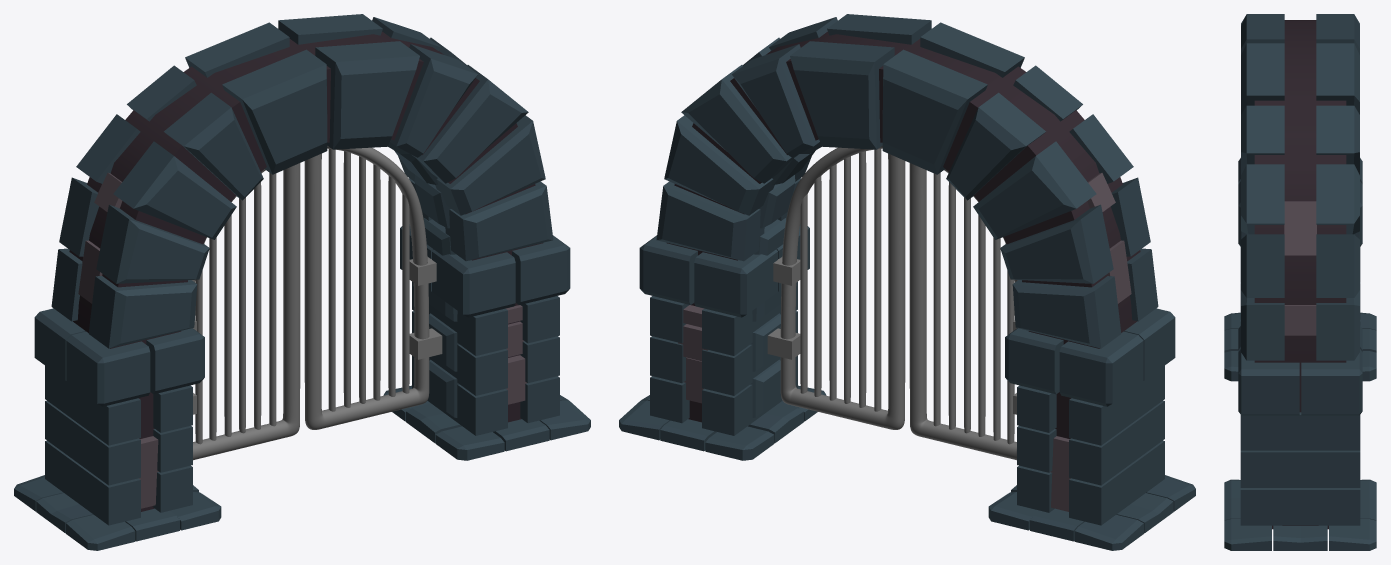
The model's file is Ворота.fbx.
The picture shows the model from 3 angles, left to right: view 1: azimuth 30°, elevation 25°; view 2: azimuth 150°, elevation 25°; view 3: azimuth 270°, elevation 25°; orthographic projection. The views are drawn at different scales.
Visible parts, largest first — view 1: Куб.001, ВоротаПравая, ВоротаЛевая, Куб, Куб.002, Куб.004, Куб.003, Куб.006; view 2: Куб.001, ВоротаПравая, ВоротаЛевая, Куб, Куб.002, Куб.004, Куб.003, Куб.006; view 3: Куб.001, Куб, Куб.002, Куб.003.
Boxes of the visible parts, left/top/right/bottom form: Куб.001: left=34, top=14, right=570, bottom=525; ВоротаПравая: left=304, top=146, right=429, bottom=429; ВоротаЛевая: left=192, top=163, right=300, bottom=460; Куб: left=69, top=31, right=542, bottom=511; Куб.002: left=14, top=385, right=590, bottom=550; Куб.004: left=388, top=142, right=459, bottom=417; Куб.003: left=78, top=173, right=527, bottom=508; Куб.006: left=193, top=257, right=442, bottom=414; Куб.001: left=639, top=14, right=1175, bottom=525; ВоротаПравая: left=780, top=146, right=905, bottom=429; ВоротаЛевая: left=909, top=163, right=1017, bottom=460; Куб: left=667, top=31, right=1140, bottom=438; Куб.002: left=619, top=385, right=1195, bottom=550; Куб.004: left=750, top=142, right=821, bottom=417; Куб.003: left=678, top=173, right=1131, bottom=511; Куб.006: left=767, top=257, right=1016, bottom=414; Куб.001: left=1238, top=14, right=1362, bottom=525; Куб: left=1254, top=20, right=1346, bottom=529; Куб.002: left=1224, top=312, right=1376, bottom=550; Куб.003: left=1284, top=201, right=1316, bottom=335.
Size of the model in its own units: 688 by 548 by 192.
